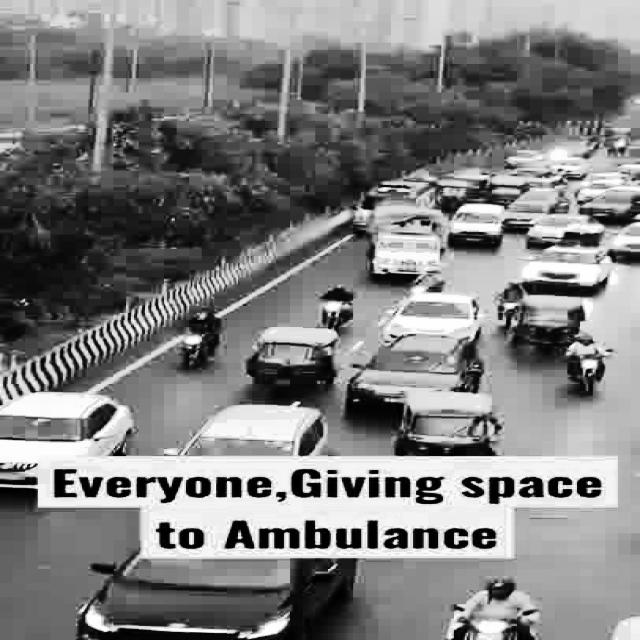Ambulance: (356, 179, 437, 208)
